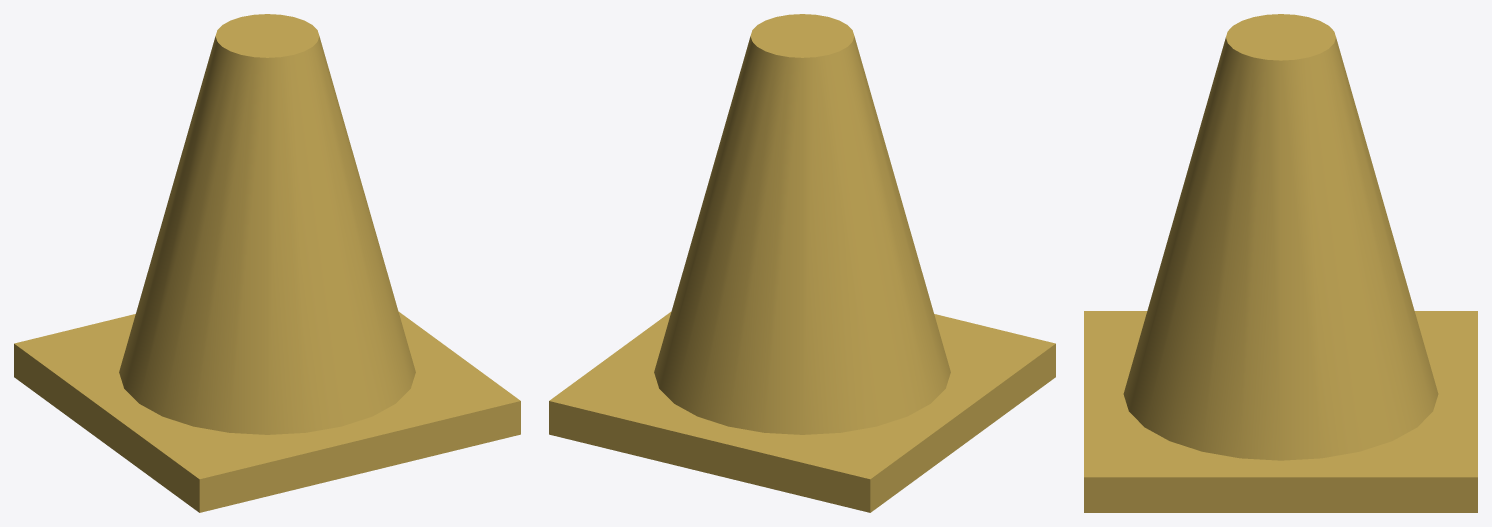
The model's file is pylon.glb.
The picture shows the model from 3 angles, left to right: view 1: azimuth 30°, elevation 25°; view 2: azimuth 150°, elevation 25°; view 3: azimuth 270°, elevation 25°; orthographic projection. The views are drawn at different scales.
Parts seen in each view (by area): view 1: pylon; view 2: pylon; view 3: pylon.
Part boxes in pixels (x1,y1,x2,y2): pylon: [14, 14, 520, 512]; pylon: [549, 14, 1055, 512]; pylon: [1084, 14, 1477, 512].
Size of the model in its own units: 0.12 by 0.132 by 0.12.
